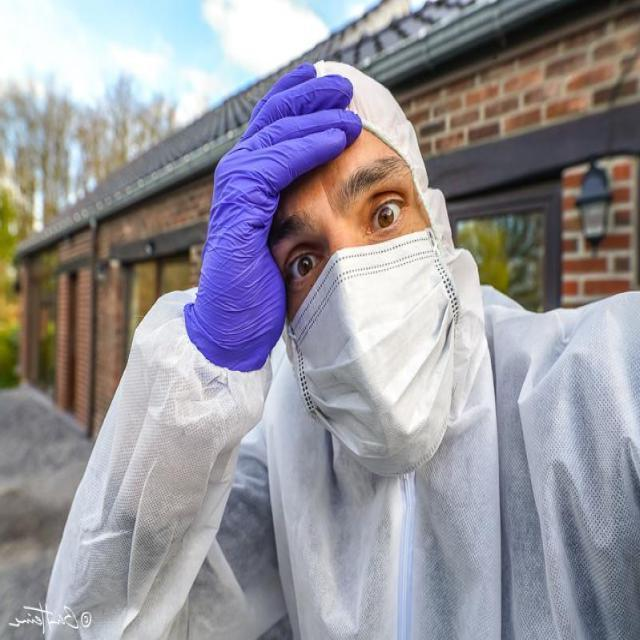gloves: (180, 53, 364, 376)
